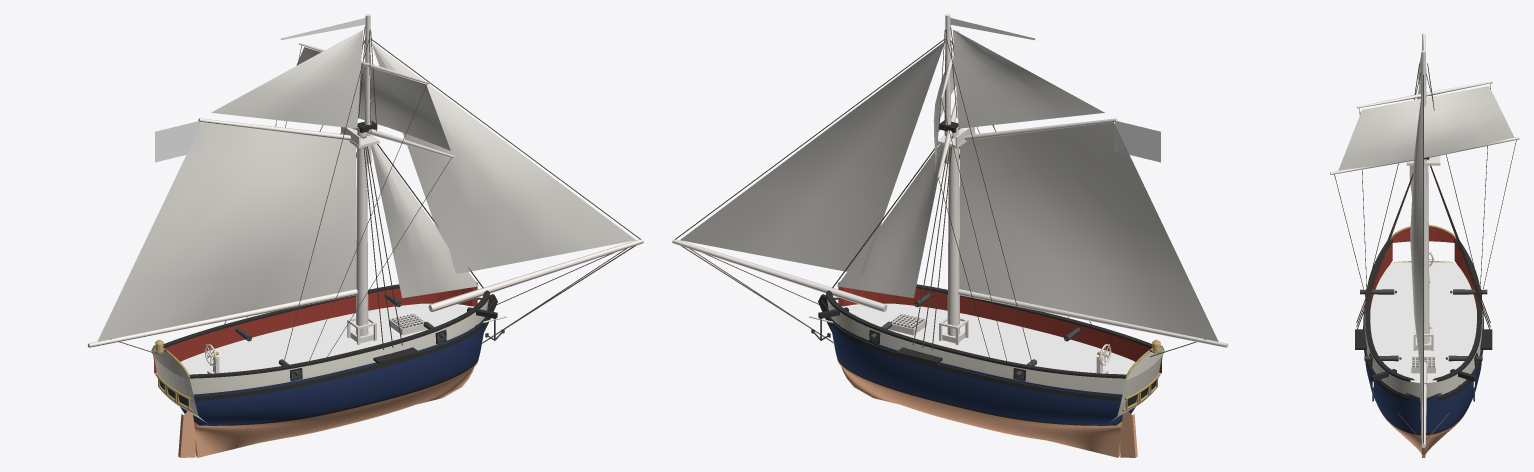
The model's file is revenue_lod1.glb.
3 views of the same model, side by side, from view 1: azimuth 30°, elevation 25°; view 2: azimuth 150°, elevation 25°; view 3: azimuth 270°, elevation 25° (orthographic). The views are drawn at different scales.
Parts seen in each view (by area): view 1: SM_Revenue_LOD1; view 2: SM_Revenue_LOD1; view 3: SM_Revenue_LOD1.
Part boxes in pixels (x1,y1,x2,y2): SM_Revenue_LOD1: (88, 14, 643, 457); SM_Revenue_LOD1: (672, 14, 1227, 457); SM_Revenue_LOD1: (1330, 33, 1519, 457).
Size of the model in its own units: 29.9 by 18.2 by 8.45.
